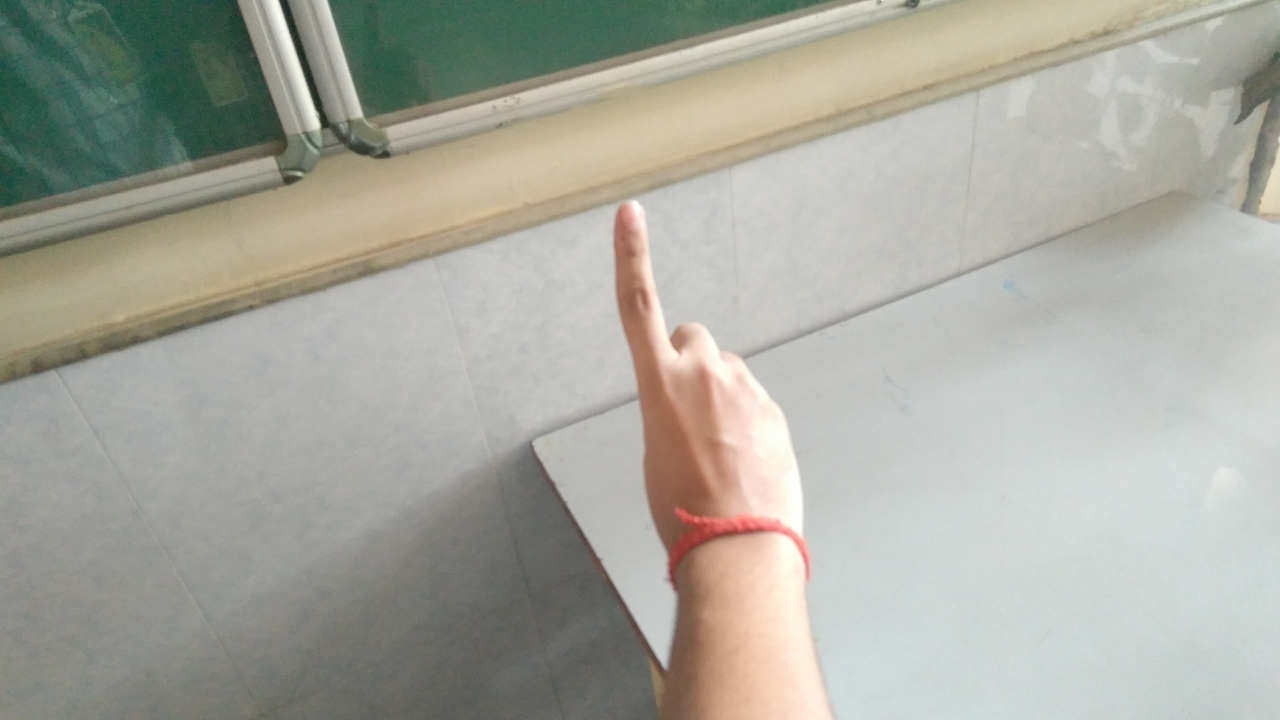fingertip: (604, 182, 660, 238)
